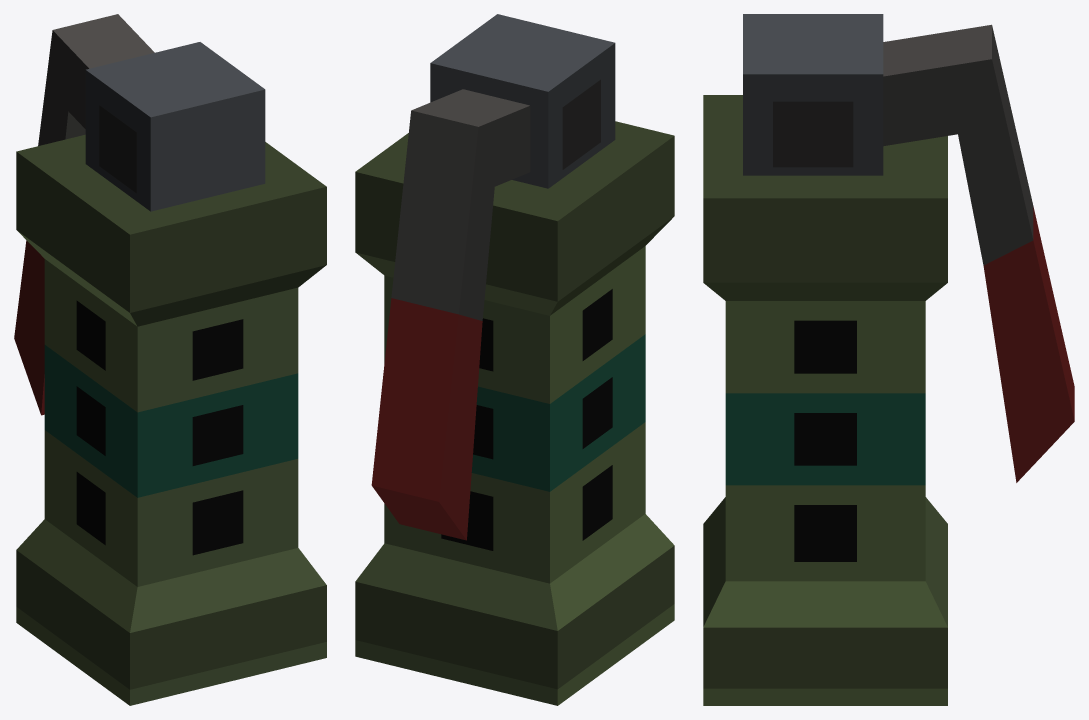
The model's file is Grenade_Flashbang.fbx.
The picture shows the model from 3 angles, left to right: view 1: azimuth 30°, elevation 25°; view 2: azimuth 150°, elevation 25°; view 3: azimuth 270°, elevation 25°; orthographic projection. The views are drawn at different scales.
Parts seen in each view (by area): view 1: Grenade_Flashbag; view 2: Grenade_Flashbag; view 3: Grenade_Flashbag.
Boxes of the visible parts, x1=… form: Grenade_Flashbag: x1=14, y1=14, x2=326, y2=705; Grenade_Flashbag: x1=355, y1=14, x2=674, y2=705; Grenade_Flashbag: x1=703, y1=14, x2=1074, y2=705.
Size of the model in its own units: 42 by 115 by 63.73.
